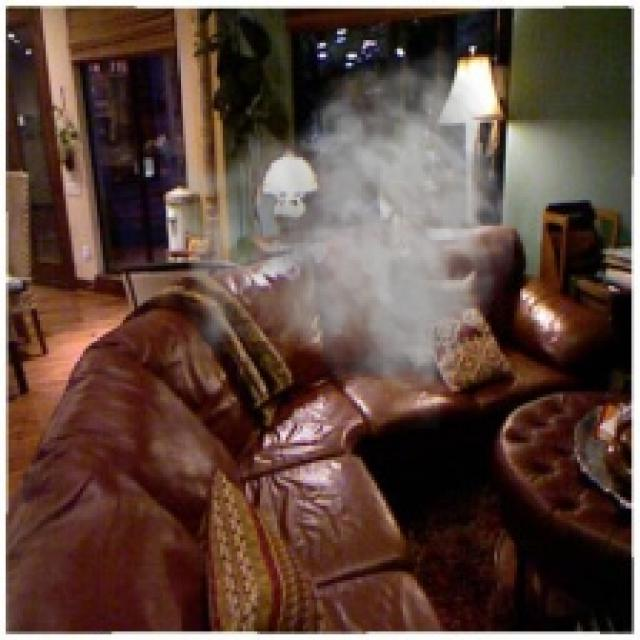smoke: (154, 46, 517, 428)
